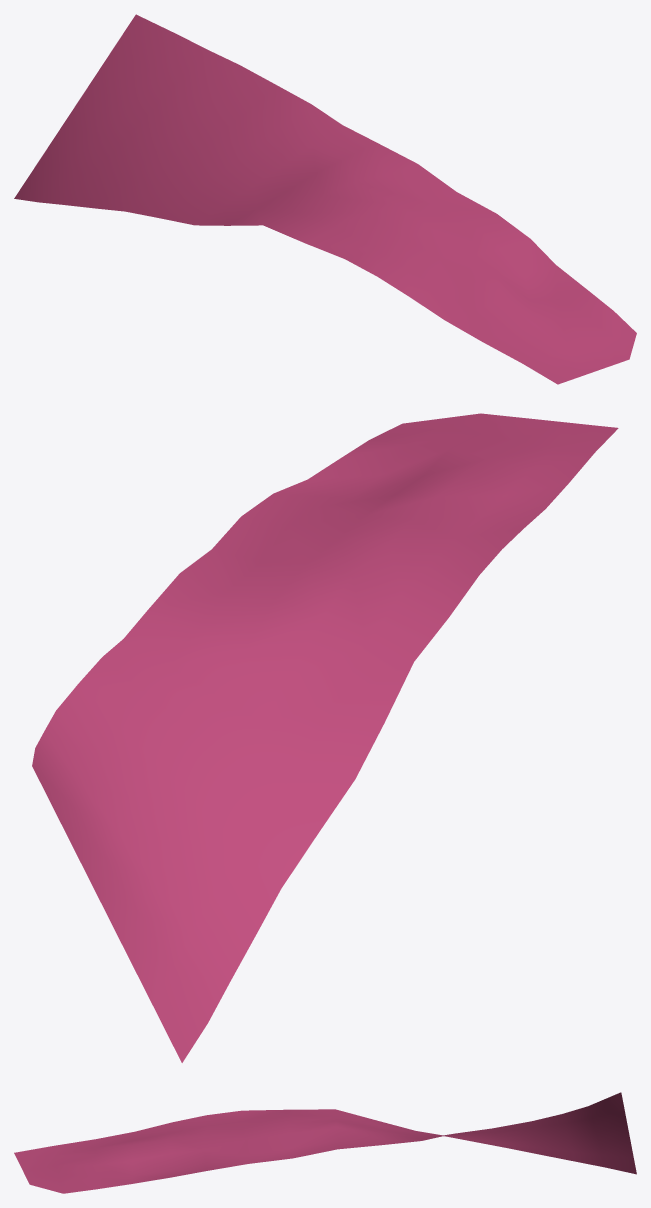
The picture shows the model from 3 angles, top to bottom: view 1: azimuth 30°, elevation 25°; view 2: azimuth 150°, elevation 25°; view 3: azimuth 270°, elevation 25°; orthographic projection. The views are drawn at different scales.
Parts seen in each view (by area): view 1: 右侧臂外侧肌间隔; view 2: 右侧臂外侧肌间隔; view 3: 右侧臂外侧肌间隔.
Boxes of the visible parts, <box> form: 右侧臂外侧肌间隔: <box>14,14,636,384</box>; 右侧臂外侧肌间隔: <box>32,413,618,1062</box>; 右侧臂外侧肌间隔: <box>14,1092,636,1193</box>.
Bounding box in the file's own units: 0.0479 × 0.0318 × 0.1461.
